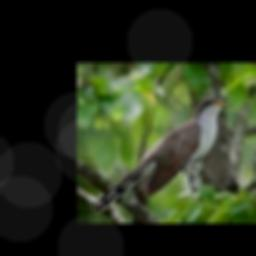Cuckoo: (91, 96, 229, 213)
